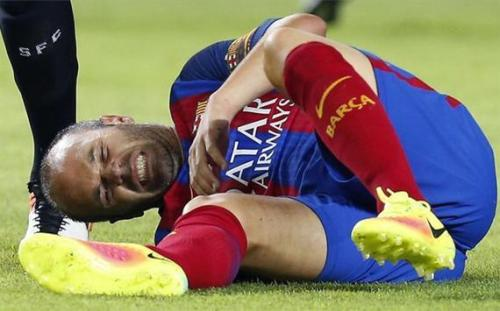fall: (2, 3, 499, 300)
